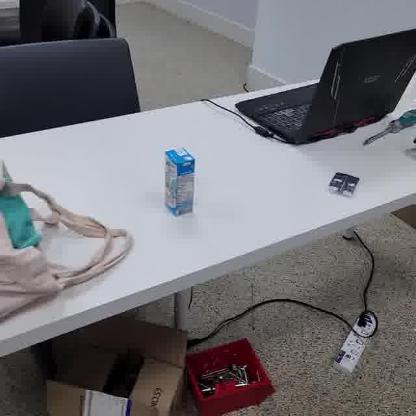Others: (157, 142, 201, 224)
